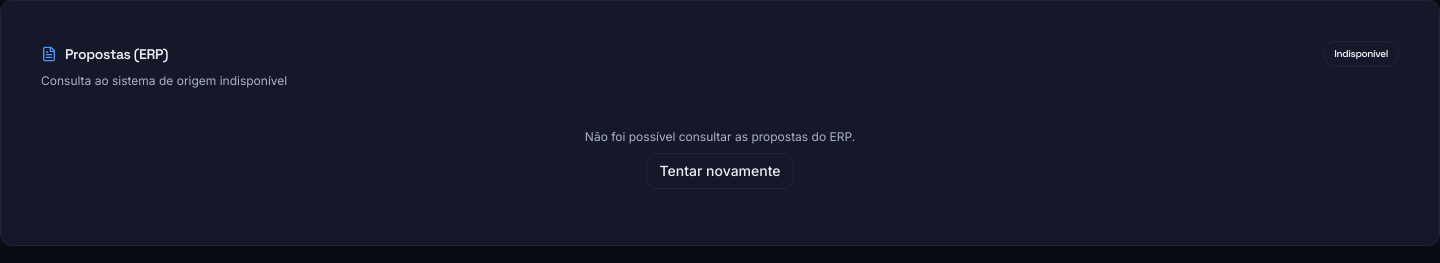
it: Propostas ERP da empresa › propaga a falha de todas as origens e recupera os dados ao repetir
The width and height of the screenshot is (1440, 263).
Expected: the message shows "Não foi possível consultar", [585,129,855,144]
Expected: the text "Indisponível" is shown, [1323,41,1399,67]
Click the button "Tentar novamente": (720, 171) [646,153,794,189]
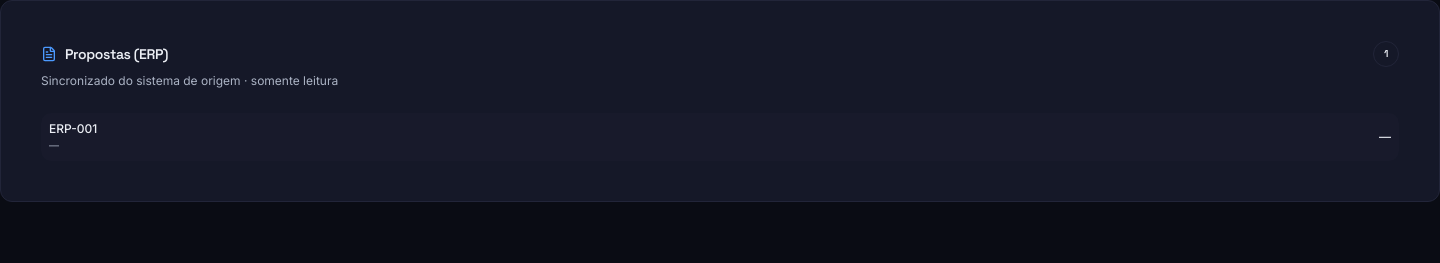
Expected: the text "ERP-001" is shown, [49,121,97,137]
Expected: the message "Não foi possível consultar as propostas do ERP." is gone
